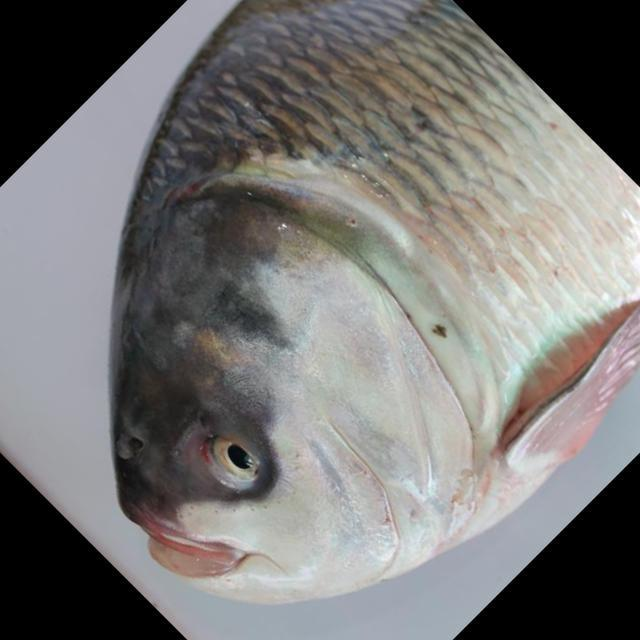Catla: (68, 1, 640, 601)
